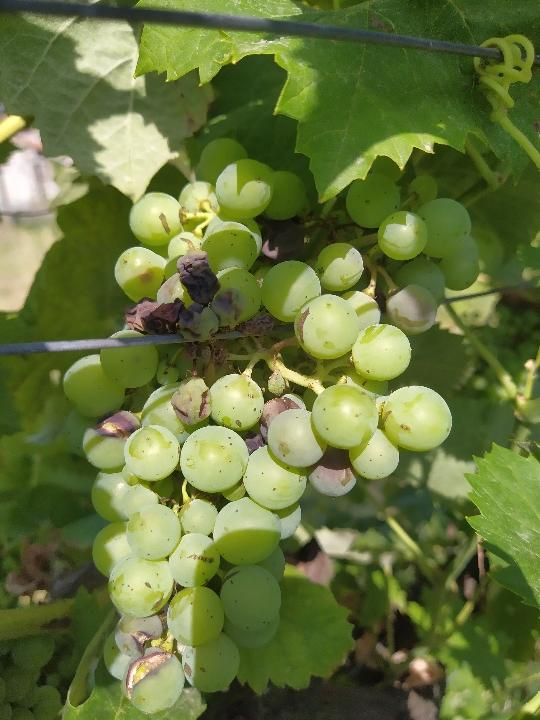grape: (62, 137, 483, 717)
